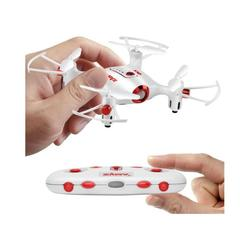drone: (27, 36, 222, 129)
